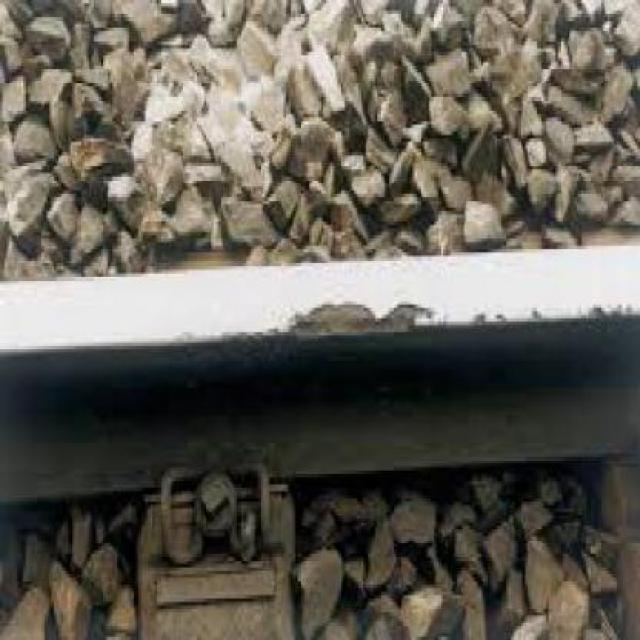defective: (3, 189, 640, 572)
